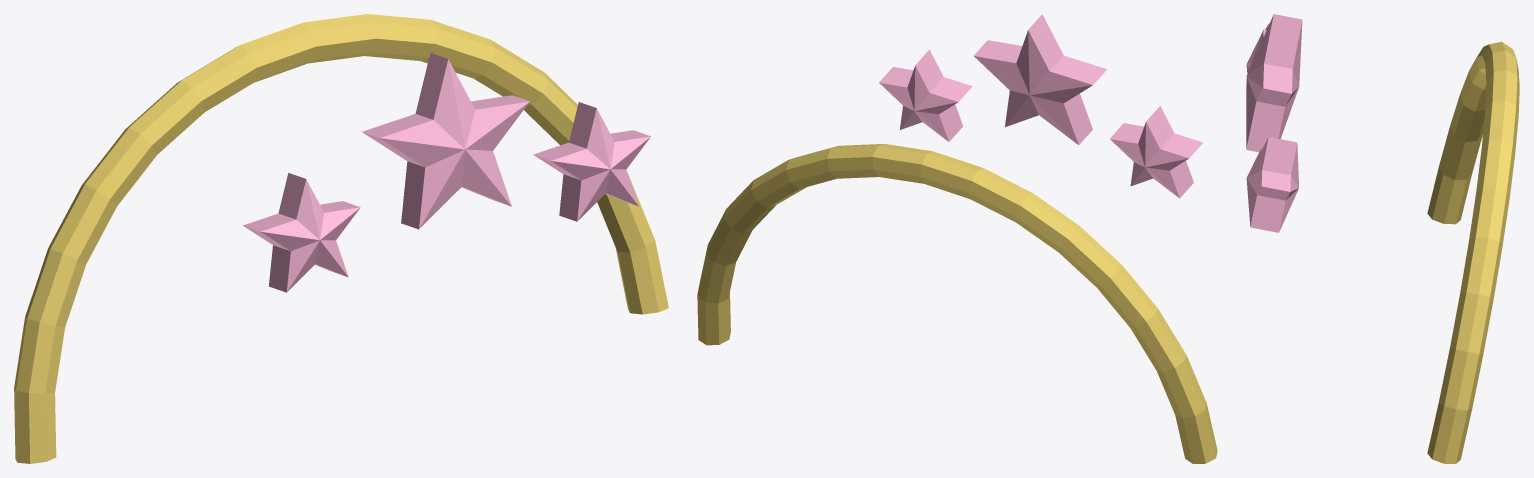
Rendered from tiara.glb.
3 renders of one model, left to right at view 1: azimuth 30°, elevation 25°; view 2: azimuth 150°, elevation 25°; view 3: azimuth 270°, elevation 25°, orthographic. The views are drawn at different scales.
Parts seen in each view (by area): view 1: banda, estrella-centro, estrella-izq, estrella-der; view 2: banda, estrella-centro, estrella-der, estrella-izq; view 3: banda, estrella-centro, estrella-izq.
Boxes of the visible parts, x1,y1,x2,y2 form: banda: (14, 14, 668, 463); estrella-centro: (362, 53, 529, 229); estrella-izq: (533, 102, 650, 221); estrella-der: (243, 173, 360, 292); banda: (697, 144, 1217, 463); estrella-centro: (974, 14, 1106, 145); estrella-der: (1110, 106, 1203, 198); estrella-izq: (879, 49, 972, 141); banda: (1427, 41, 1519, 463); estrella-centro: (1246, 14, 1302, 152); estrella-izq: (1246, 137, 1299, 232).
Size of the model in its own units: 0.492 by 0.2941 by 0.2238.
